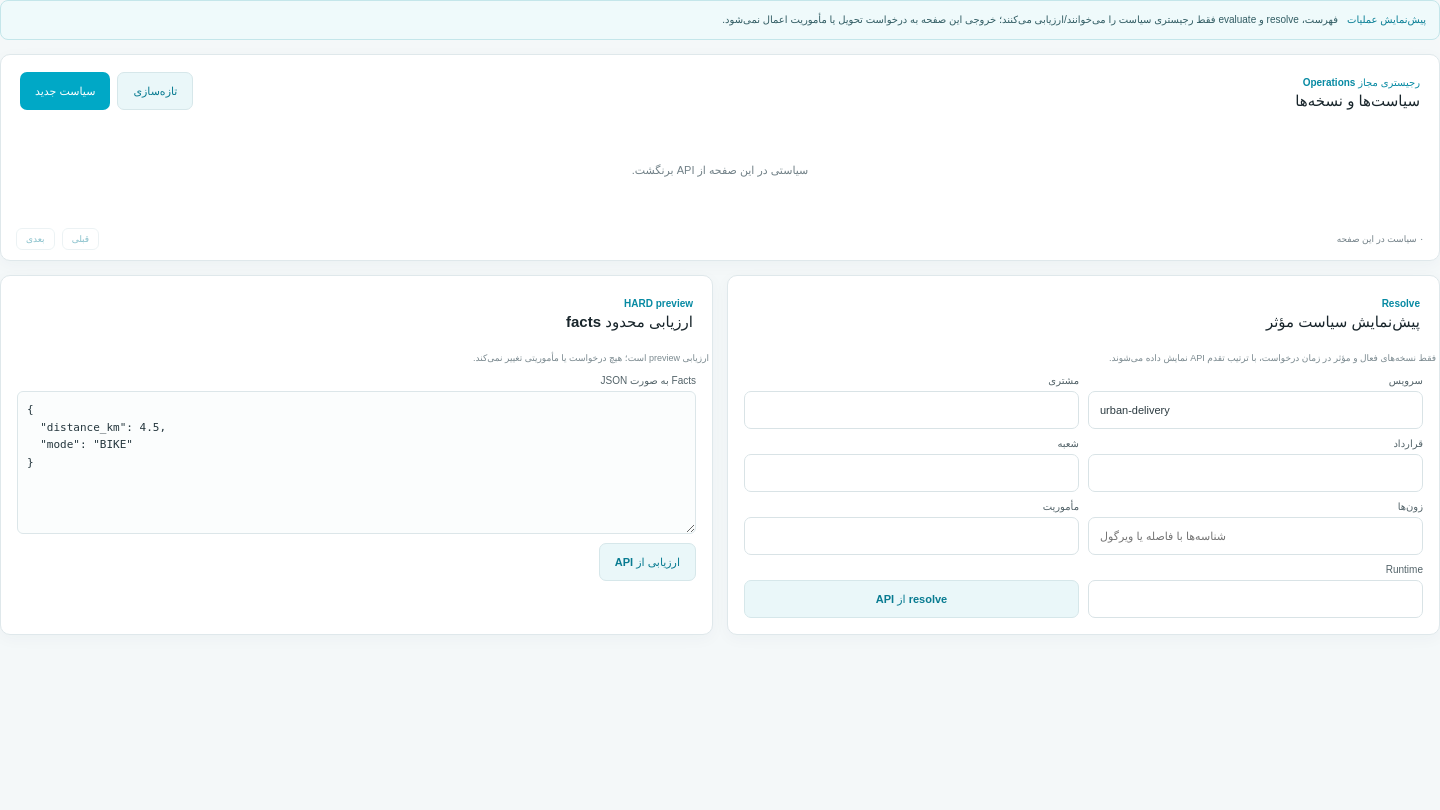
Test case: Operations policy workbench › sends HARD evaluation as a preview request and displays the authoritative result
Expected: the text "سیاستی در این صفحه از API برنگشت." is shown, [632,164,808,176]
Step 1. Click the button "ارزیابی از API" → x=647, y=562, box [599,543,696,581]
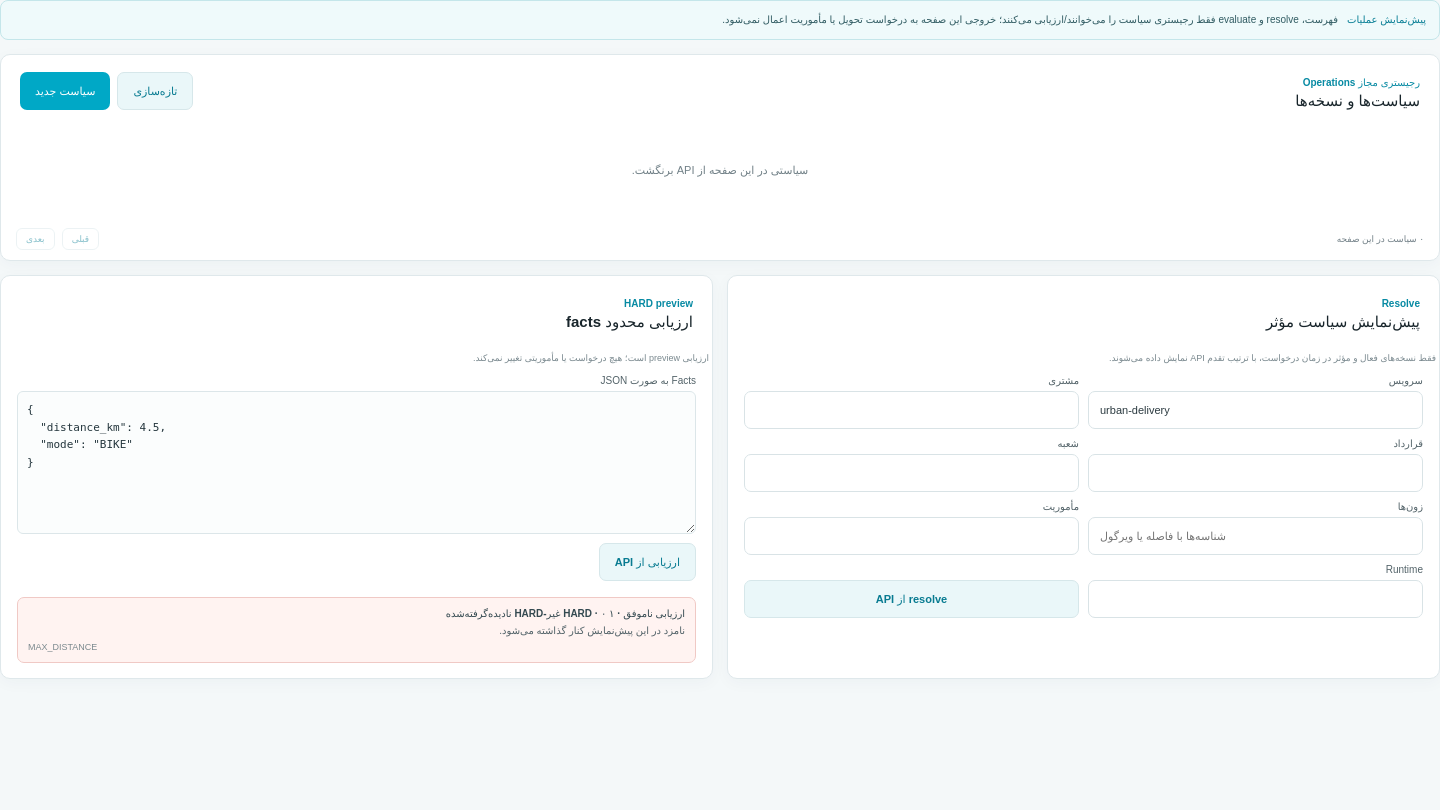
Now the text "نامزد در این پیش‌نمایش کنار گذاشته می‌شود." is shown, box [499,625,685,636]
